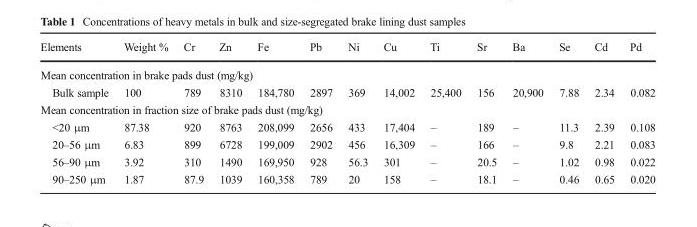table: (39, 39, 654, 185)
table column: (39, 39, 115, 185), (115, 39, 175, 185), (249, 39, 301, 185), (421, 39, 468, 185), (503, 39, 550, 185), (375, 39, 421, 185), (210, 39, 249, 185), (301, 39, 339, 185), (339, 39, 375, 185), (550, 39, 586, 185), (175, 39, 210, 185), (468, 39, 503, 185), (586, 39, 621, 185), (621, 39, 654, 185)
table column header: (39, 39, 654, 60)
table projected row header: (39, 60, 654, 83), (39, 100, 654, 117)
table row: (39, 60, 654, 83), (39, 39, 654, 60), (39, 117, 654, 135), (39, 152, 654, 170), (39, 83, 654, 100), (39, 100, 654, 117), (39, 135, 654, 152), (39, 170, 654, 185)
